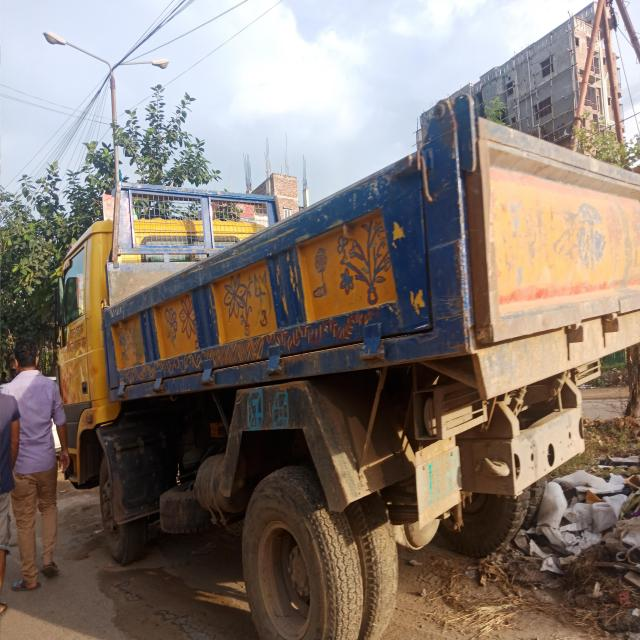truck: (32, 84, 640, 623)
